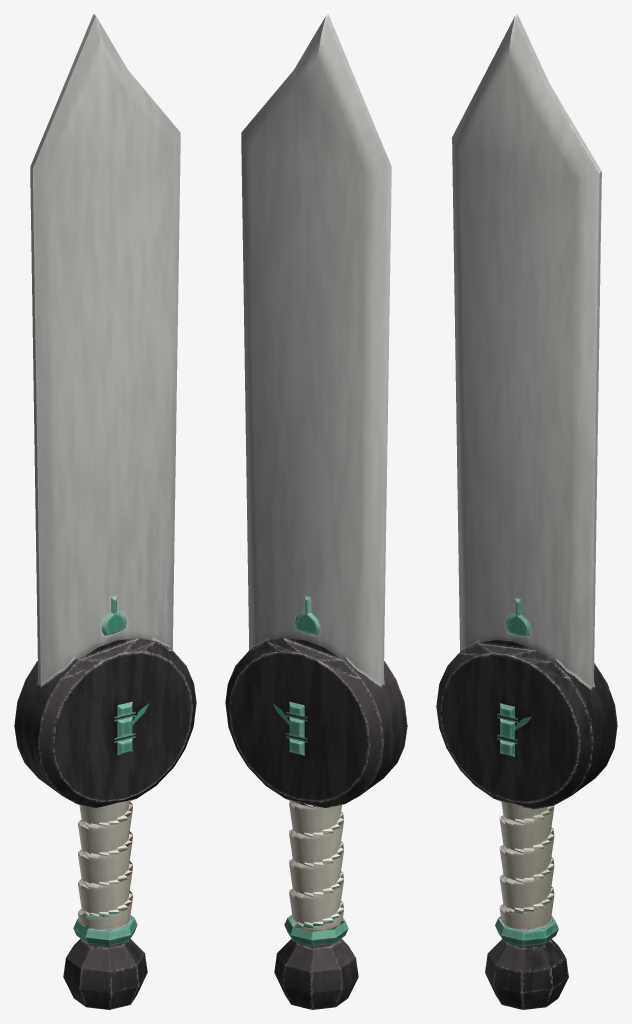
The model's file is Brewguard Dao.fbx.
The picture shows the model from 3 angles, left to right: view 1: azimuth 30°, elevation 25°; view 2: azimuth 150°, elevation 25°; view 3: azimuth 330°, elevation 25°; orthographic projection.
Parts seen in each view (by area): view 1: Brewguard Dao_Body; view 2: Brewguard Dao_Body; view 3: Brewguard Dao_Body.
Boxes of the visible parts, box(x1,y1,x2,y2) form: Brewguard Dao_Body: box(14, 14, 196, 1009); Brewguard Dao_Body: box(225, 14, 407, 1009); Brewguard Dao_Body: box(436, 14, 617, 1009).
Size of the model in its own units: 0.6868 by 4.12 by 0.32.
